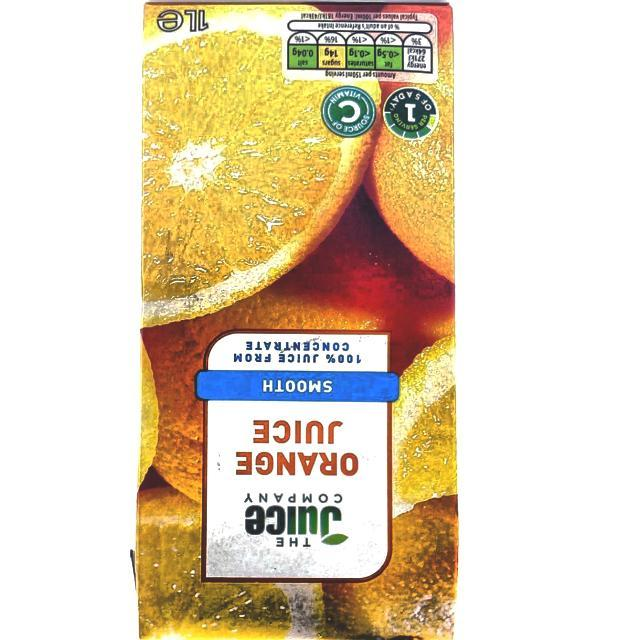cardboard: (135, 2, 458, 640)
